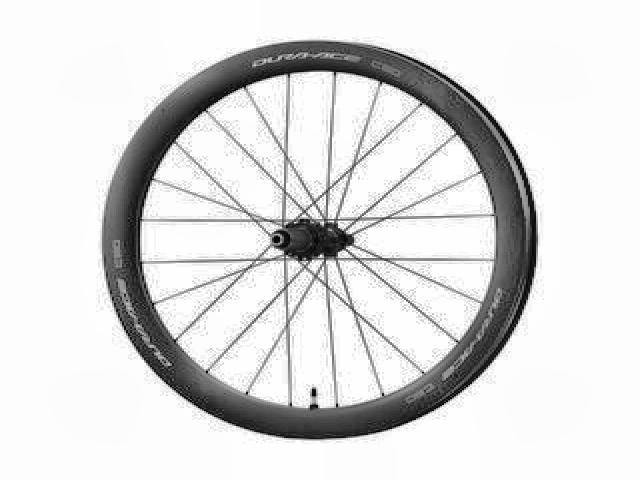wheel: (89, 43, 553, 445)
